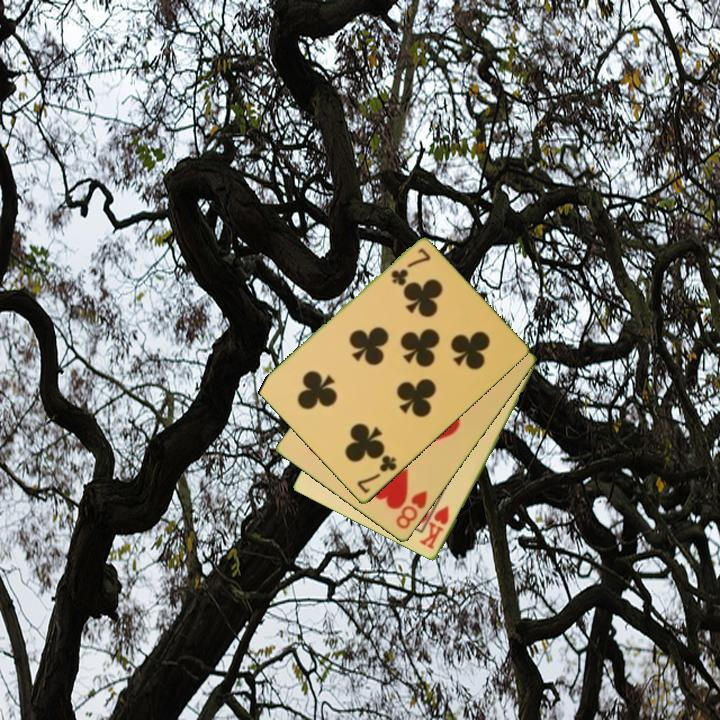7c: (353, 452, 400, 497), (387, 245, 433, 288)
8h: (392, 487, 430, 532)
Kh: (416, 502, 452, 553)
